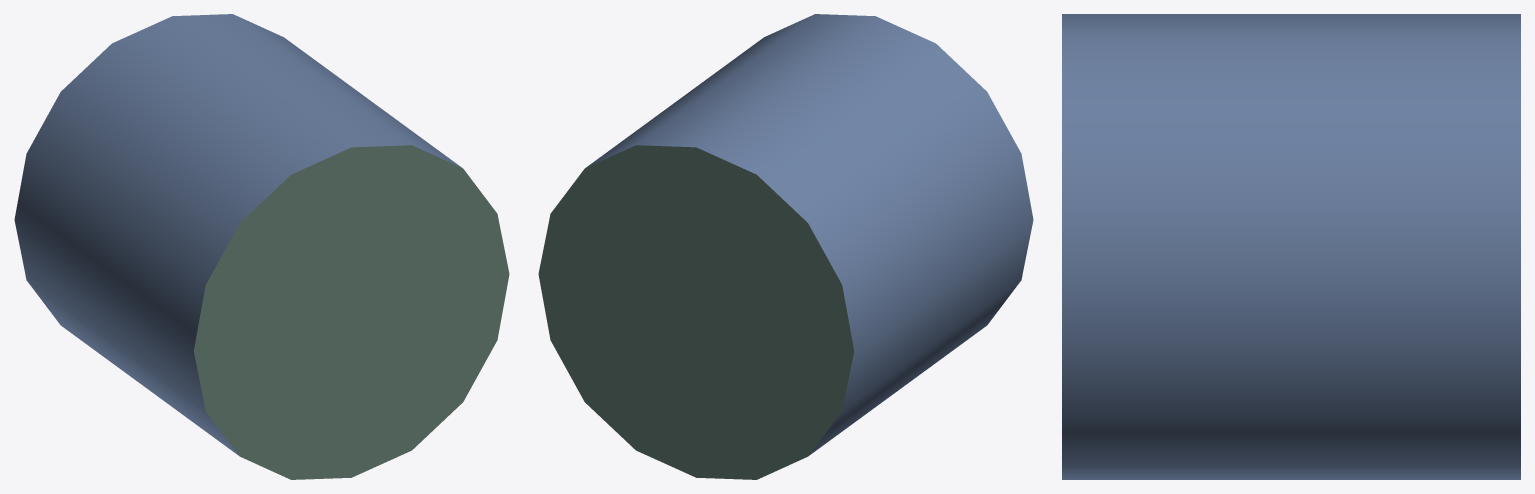
Rendered from icub_l_shoulder_2.dae.
3 views of the same model, side by side, from view 1: azimuth 30°, elevation 25°; view 2: azimuth 150°, elevation 25°; view 3: azimuth 270°, elevation 25° (orthographic). The views are drawn at different scales.
Parts seen in each view (by area): view 1: l_shoulder_2_mesh; view 2: l_shoulder_2_mesh; view 3: l_shoulder_2_mesh.
Boxes of the visible parts, box(x1,y1,x2,y2) form: l_shoulder_2_mesh: box(14, 14, 509, 479); l_shoulder_2_mesh: box(538, 14, 1033, 479); l_shoulder_2_mesh: box(1062, 14, 1520, 479).
Bounding box in the file's own units: 0.06 × 0.06 × 0.059.
